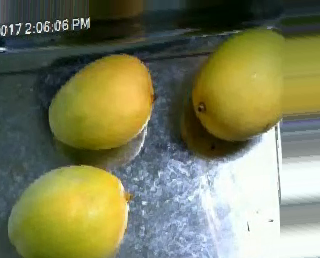Mango: (3, 164, 132, 256), (187, 25, 284, 141), (46, 53, 156, 149)
